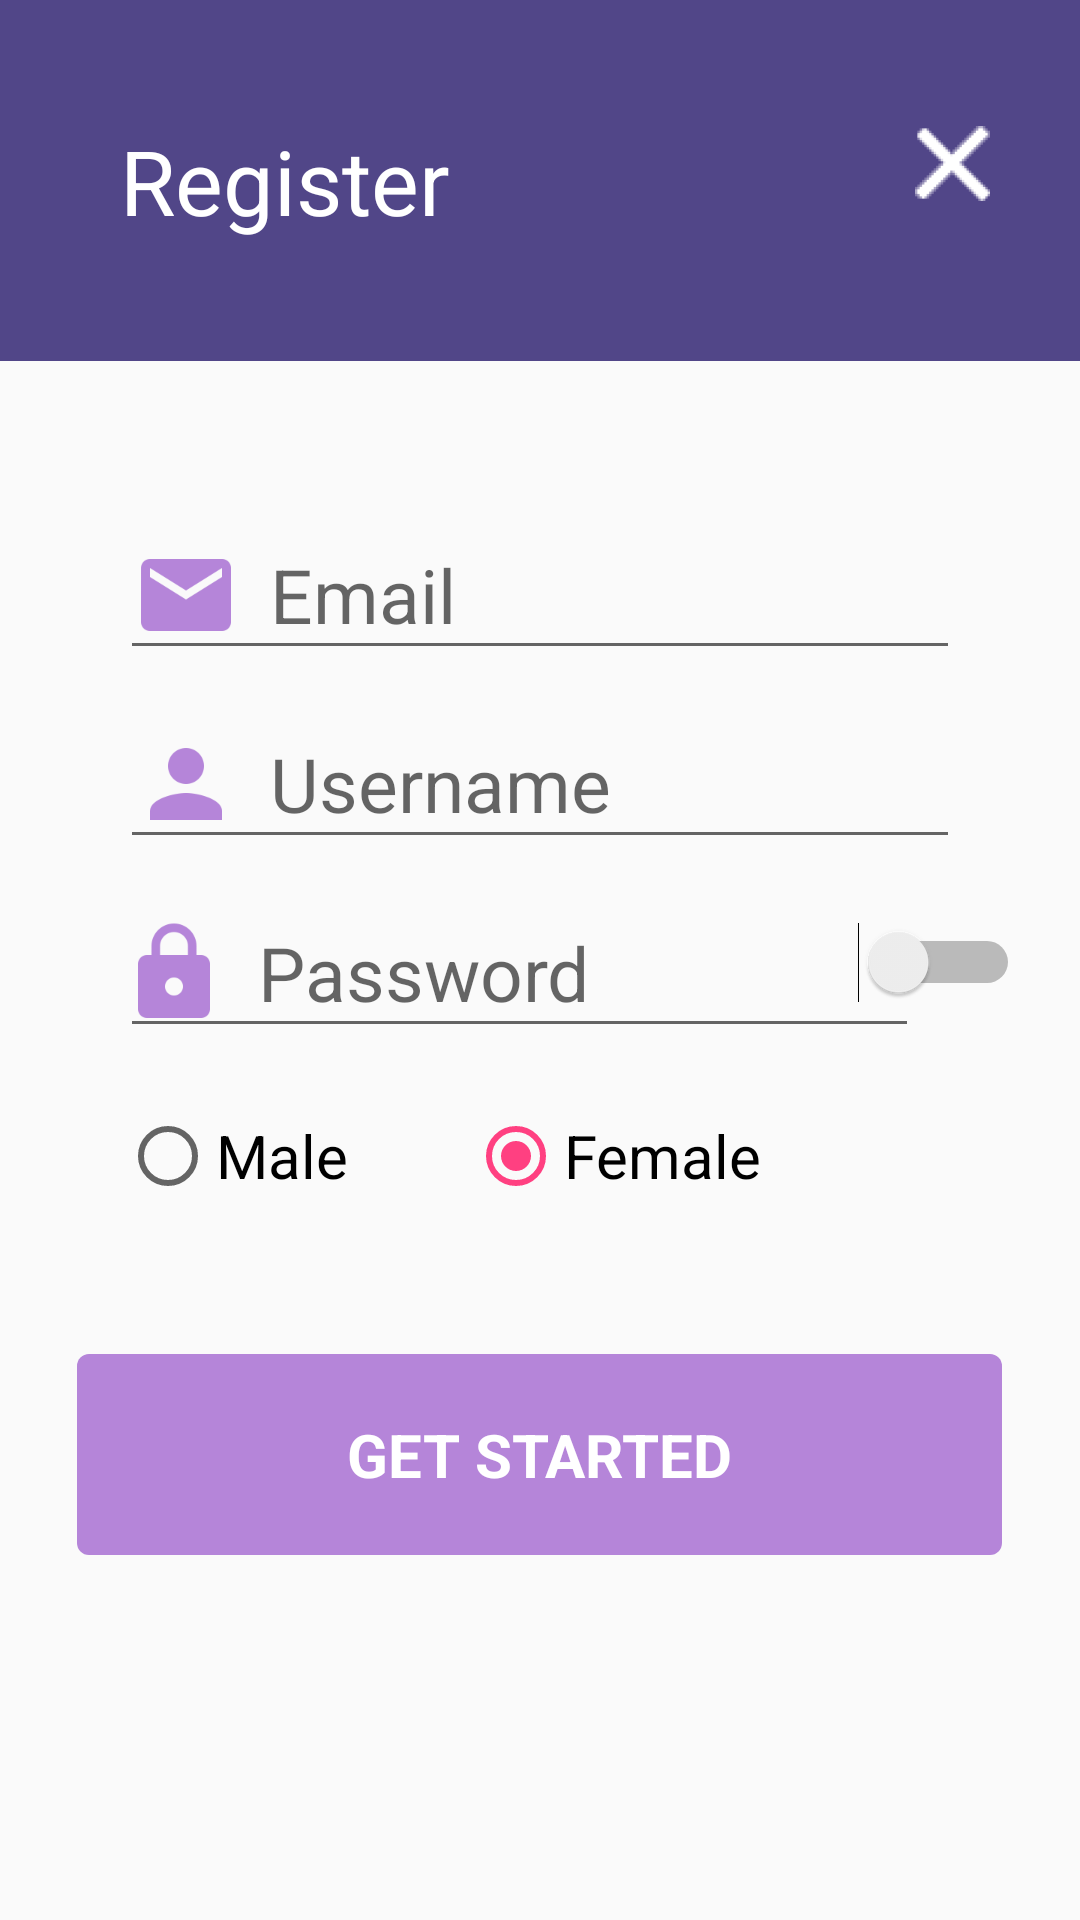

Icons on this 1080px×1920px Android screen, each with the point to tap as point (x, y):
close: point (952, 163)
